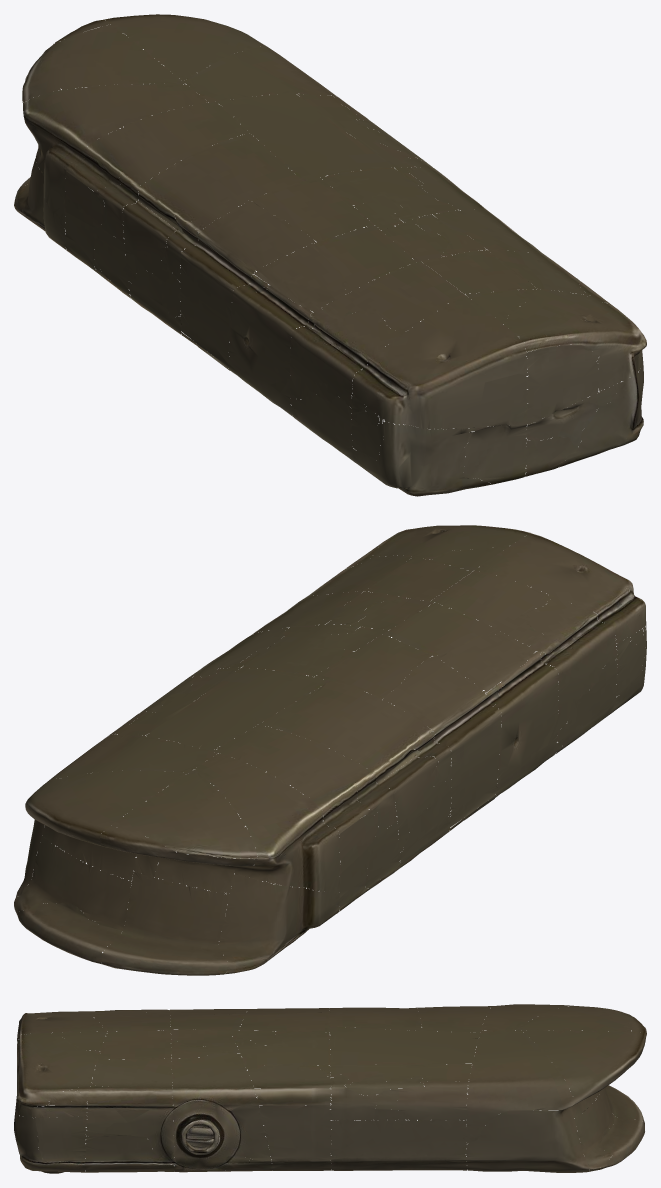
The model's file is audiostream.glb.
3 renders of one model, top to bottom at view 1: azimuth 30°, elevation 25°; view 2: azimuth 150°, elevation 25°; view 3: azimuth 270°, elevation 25°, orthographic. The views are drawn at different scales.
Visible parts, largest first — view 1: tripo_node_41882a2b-ab27-47fe-8b0c-160cbdb11dc6; view 2: tripo_node_41882a2b-ab27-47fe-8b0c-160cbdb11dc6; view 3: tripo_node_41882a2b-ab27-47fe-8b0c-160cbdb11dc6.
Boxes of the visible parts, bbox=[...] form: tripo_node_41882a2b-ab27-47fe-8b0c-160cbdb11dc6: bbox=[14, 14, 646, 496]; tripo_node_41882a2b-ab27-47fe-8b0c-160cbdb11dc6: bbox=[14, 525, 646, 975]; tripo_node_41882a2b-ab27-47fe-8b0c-160cbdb11dc6: bbox=[14, 1004, 646, 1173].
Size of the model in its own units: 0.3526 by 0.1853 by 0.9808.
Materials: 1 (1 with a texture image).
